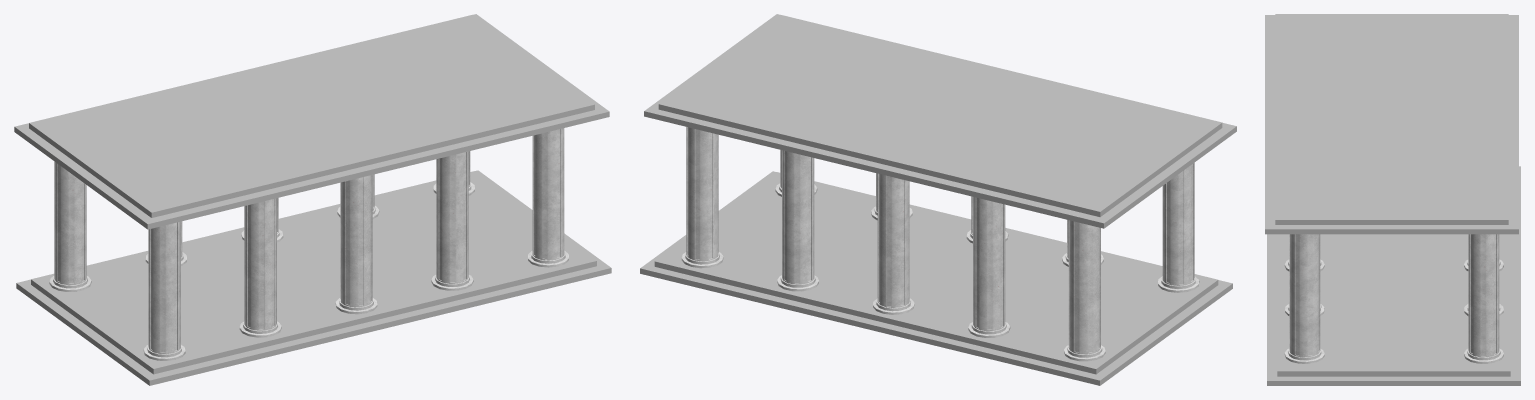
Rendered from fbx_couloir.fbx.
The picture shows the model from 3 angles, left to right: view 1: azimuth 30°, elevation 25°; view 2: azimuth 150°, elevation 25°; view 3: azimuth 270°, elevation 25°; orthographic projection. The views are drawn at different scales.
Parts seen in each view (by area): view 1: Box003, Box002, Cylinder008, Cylinder010, Cylinder009, Cylinder007, Cylinder011, Cylinder002; view 2: Box003, Box002, Cylinder002, Cylinder006, Cylinder004, Cylinder005, Cylinder003, Cylinder007; view 3: Box003, Box002, Cylinder011, Cylinder006.
Part boxes in pixels (left/top/right/bottom): Box003: left=14, top=14, right=609, bottom=229; Box002: left=16, top=170, right=611, bottom=385; Cylinder008: left=239, top=198, right=281, bottom=337; Cylinder010: left=431, top=151, right=473, bottom=290; Cylinder009: left=335, top=175, right=377, bottom=314; Cylinder007: left=143, top=221, right=185, bottom=360; Cylinder011: left=528, top=128, right=568, bottom=267; Cylinder002: left=49, top=161, right=91, bottom=291; Box003: left=644, top=14, right=1236, bottom=228; Box002: left=640, top=171, right=1232, bottom=385; Cylinder002: left=1064, top=220, right=1105, bottom=361; Cylinder006: left=681, top=127, right=723, bottom=268; Cylinder004: left=873, top=173, right=914, bottom=314; Cylinder005: left=777, top=150, right=818, bottom=291; Cylinder003: left=968, top=197, right=1010, bottom=337; Cylinder007: left=1158, top=163, right=1199, bottom=292; Box003: left=1265, top=14, right=1518, bottom=234; Box002: left=1267, top=166, right=1520, bottom=385; Cylinder011: left=1284, top=234, right=1324, bottom=363; Cylinder006: left=1464, top=234, right=1503, bottom=363.
Bounding box in the file's own units: 17.17 × 5.95 × 8.6.
